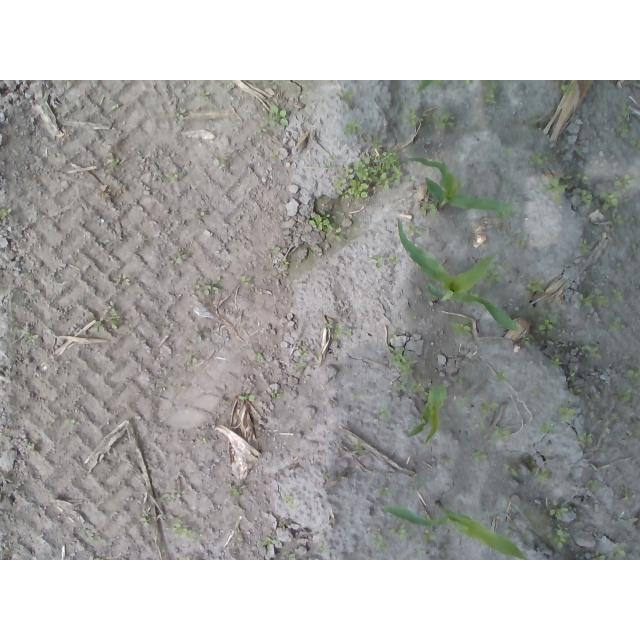Maize: (390, 217, 520, 331), (383, 500, 530, 560), (393, 155, 511, 214), (408, 383, 449, 444)
Weeds: (335, 152, 406, 201), (386, 347, 419, 394), (91, 304, 129, 332), (575, 288, 625, 309), (255, 103, 289, 133), (307, 212, 341, 241), (616, 367, 640, 406), (454, 394, 498, 415), (615, 110, 634, 137), (600, 190, 621, 214), (546, 178, 566, 203), (171, 523, 197, 542), (448, 319, 473, 337), (550, 528, 571, 549), (331, 322, 353, 338), (483, 271, 506, 286), (162, 166, 182, 183), (582, 343, 602, 360), (485, 82, 499, 106), (526, 278, 547, 294), (491, 425, 512, 441), (370, 533, 389, 550), (202, 282, 222, 298), (617, 173, 634, 191), (438, 112, 456, 129), (113, 273, 133, 287), (388, 525, 408, 539), (553, 81, 571, 96), (611, 213, 629, 228), (610, 544, 626, 560), (608, 319, 625, 334), (409, 112, 424, 129), (531, 151, 549, 165), (344, 121, 360, 136), (578, 432, 594, 447), (504, 463, 520, 477), (537, 317, 553, 331), (577, 240, 592, 254), (579, 189, 593, 204), (586, 479, 602, 492), (560, 408, 576, 421), (533, 469, 551, 480), (540, 420, 555, 433), (550, 507, 569, 517), (494, 372, 508, 385), (343, 90, 357, 103), (411, 381, 426, 393), (368, 255, 384, 266), (261, 537, 277, 548), (472, 451, 489, 461), (407, 224, 421, 236), (423, 529, 434, 544), (224, 487, 240, 497), (576, 173, 591, 183), (237, 394, 255, 402), (550, 357, 563, 368), (298, 345, 310, 356), (382, 487, 395, 497), (175, 254, 188, 263), (520, 335, 531, 345), (284, 495, 295, 505), (270, 246, 282, 255), (255, 353, 265, 363), (594, 553, 608, 560), (455, 376, 465, 385), (270, 151, 278, 162), (26, 336, 35, 345), (203, 436, 210, 444), (26, 443, 33, 449)
